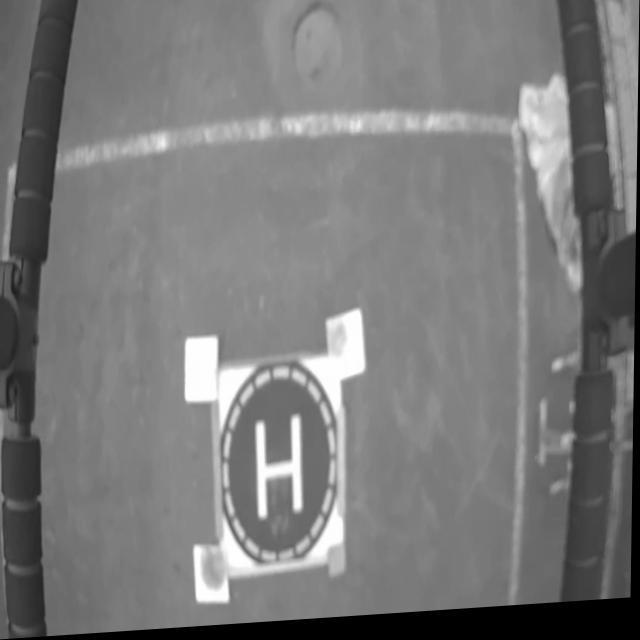Helipad: (257, 417, 306, 525)
